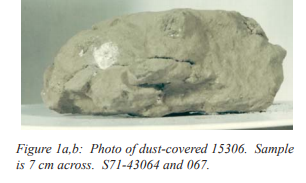Breccia: (28, 6, 290, 121), (79, 40, 272, 105), (24, 20, 167, 104), (190, 9, 282, 117)
